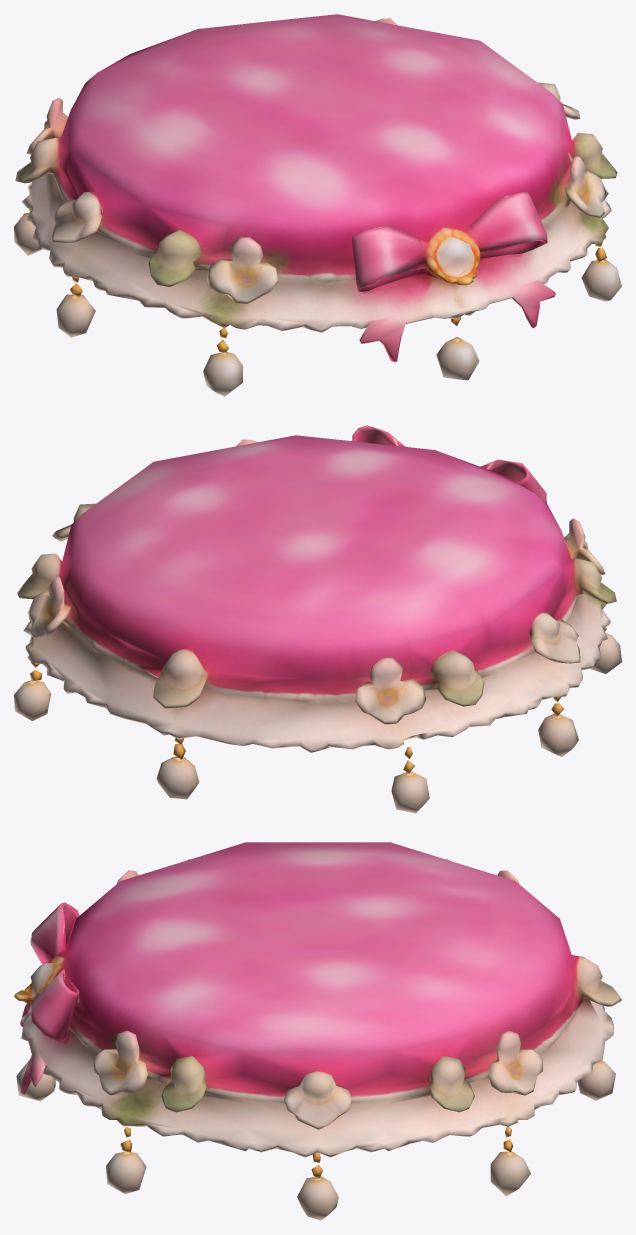
3 views of the same model, one above another, from view 1: azimuth 30°, elevation 25°; view 2: azimuth 150°, elevation 25°; view 3: azimuth 270°, elevation 25° (orthographic).
Parts seen in each view (by area): view 1: tripo_node_279085d5; view 2: tripo_node_279085d5; view 3: tripo_node_279085d5.
Part boxes in pixels (x1,y1,x2,y2): tripo_node_279085d5: [14, 14, 621, 396]; tripo_node_279085d5: [14, 425, 621, 813]; tripo_node_279085d5: [14, 842, 621, 1220].
Size of the model in its own units: 0.9961 by 0.3268 by 0.9961.
1 material, 1 textured.
